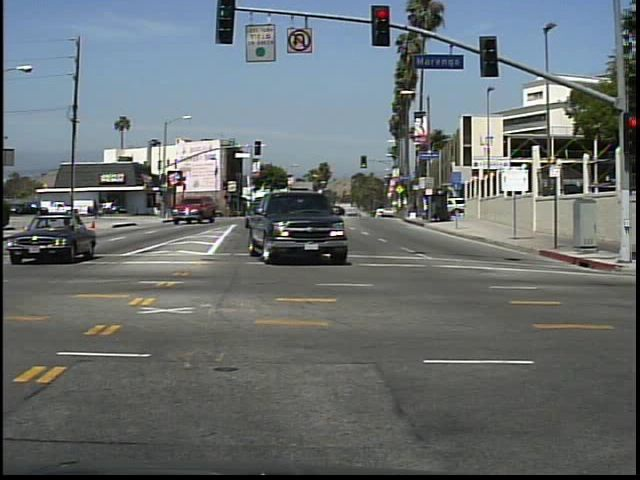person: (90, 197, 103, 223)
